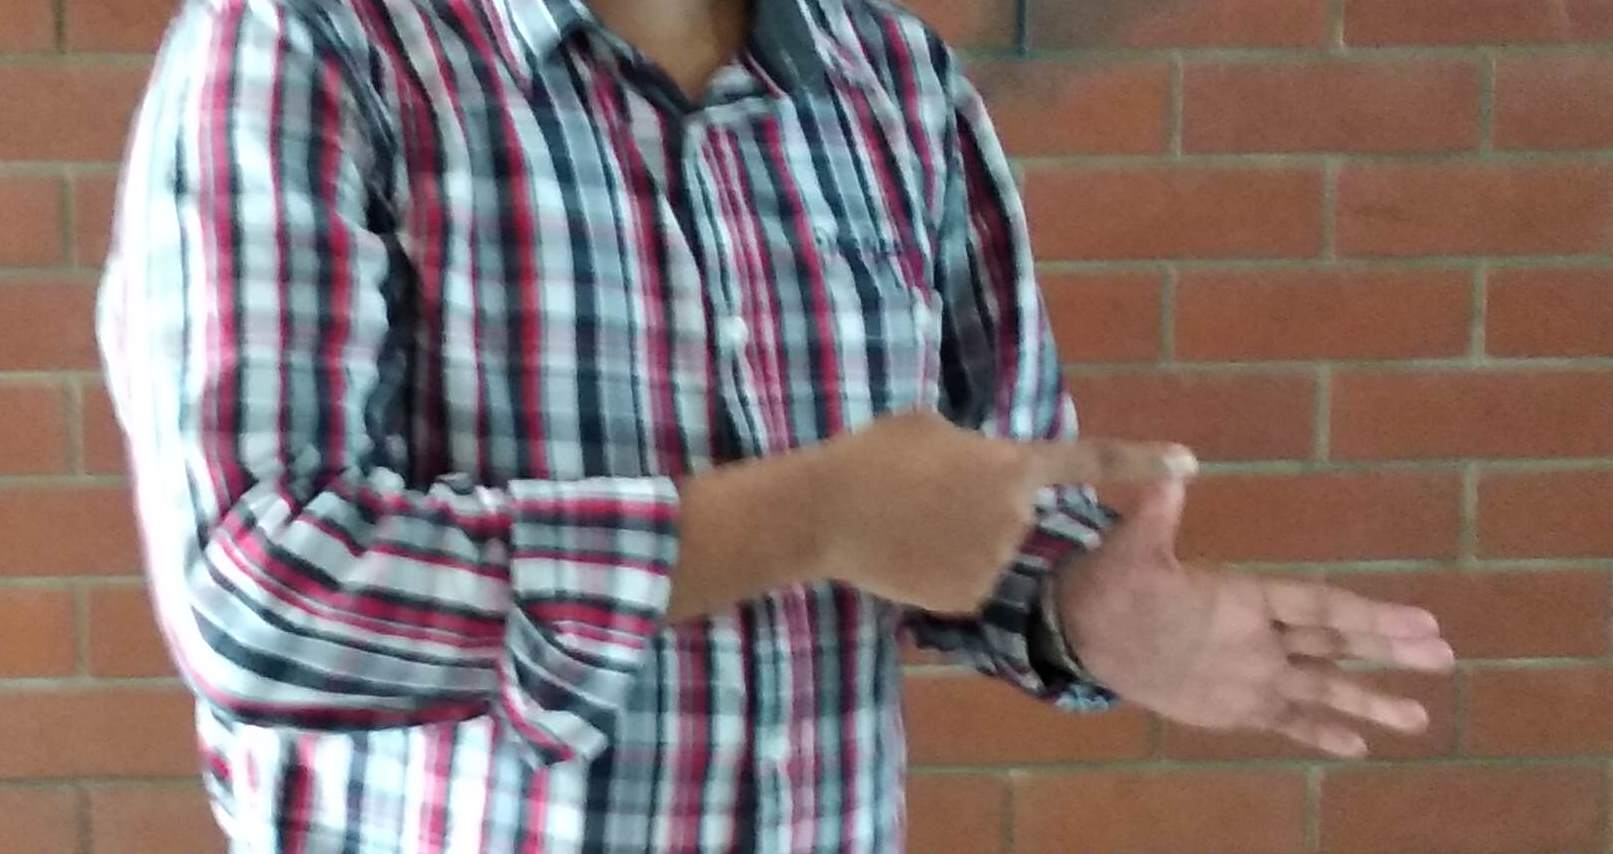a: (912, 417, 1484, 808)
